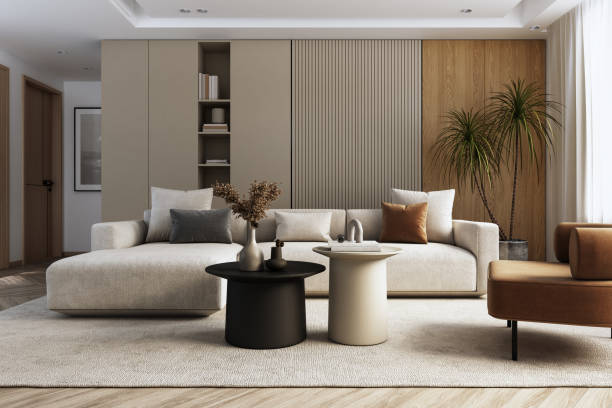chair: (487, 220, 612, 363)
flower vase: (211, 179, 283, 271)
large plant: (434, 78, 558, 260)
sofa: (43, 185, 503, 318)
table: (203, 258, 327, 351), (311, 241, 402, 349)
